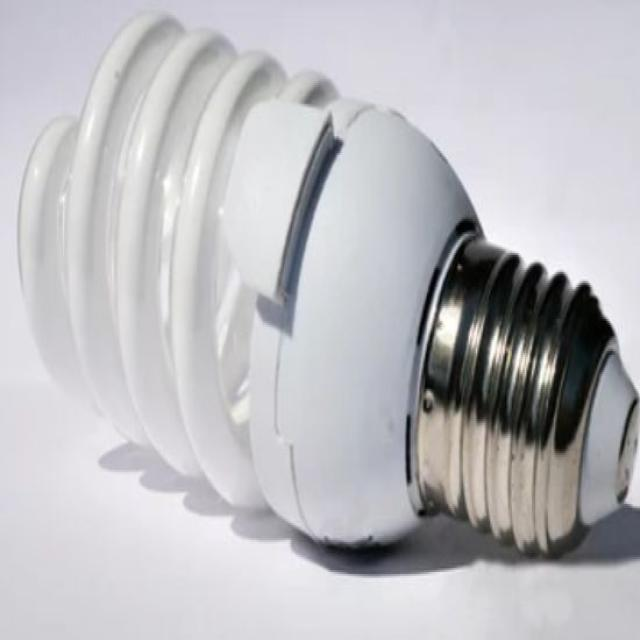electronic: (16, 8, 638, 562)
